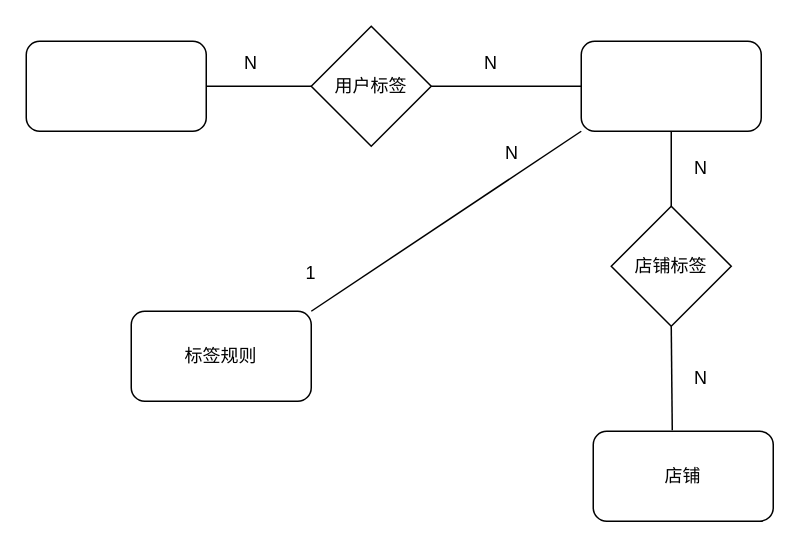
Image size: 800x548. Some labels were removed from this diagram. Each missing label, with the centre of its shape:
c用户: point (115, 85)
系统标签: point (670, 85)
